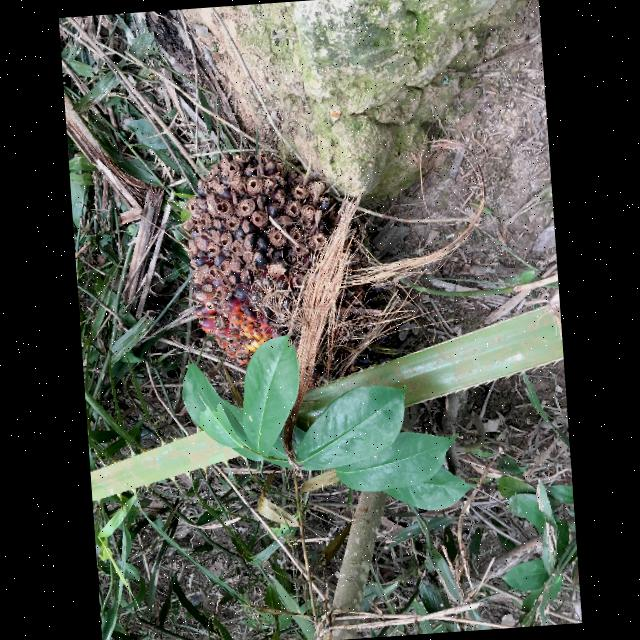Damaged: (184, 145, 356, 391)
